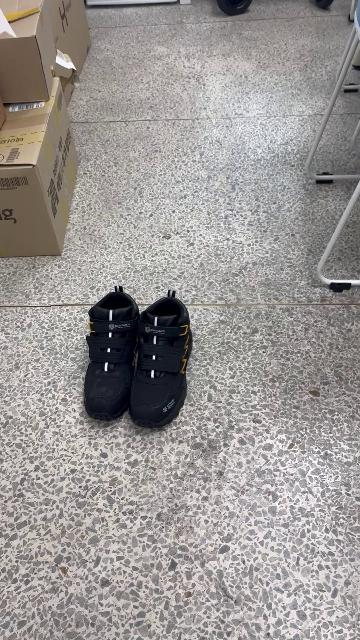shoe_worn: (131, 296, 197, 428), (85, 292, 139, 423)
